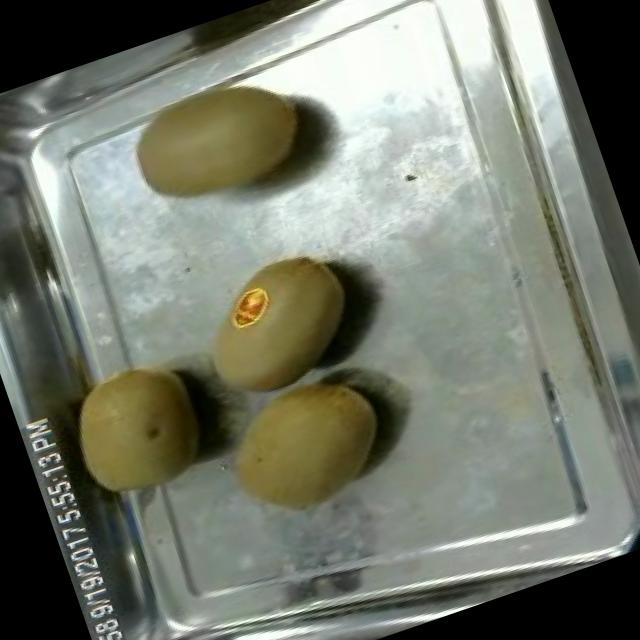Fruit: (198, 350, 412, 540), (110, 44, 328, 228), (175, 233, 378, 414), (46, 342, 225, 518)
